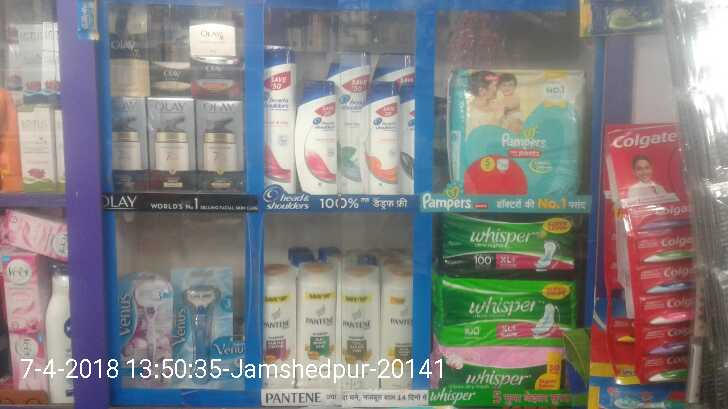venus: (175, 268, 241, 385), (122, 270, 174, 385)
